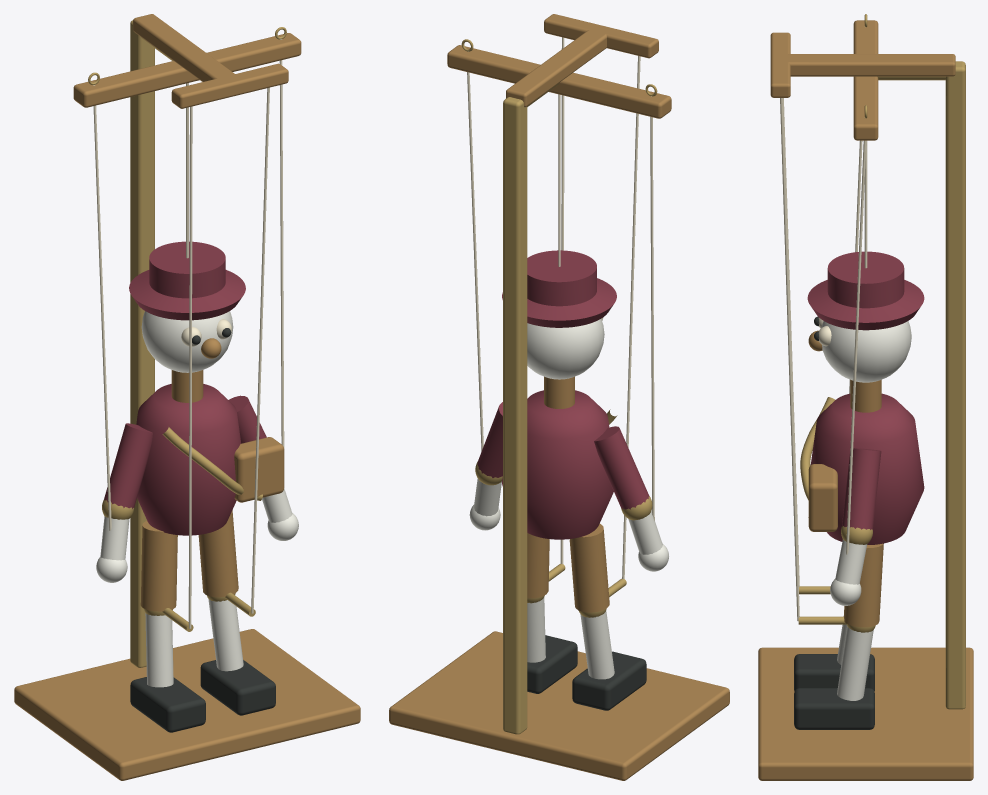
File: abandoned-puppet-theatre-and-prop-vault-articulated-co-13b5c0bd__31080.glb
3 renders of one model, left to right at view 1: azimuth 30°, elevation 25°; view 2: azimuth 150°, elevation 25°; view 3: azimuth 270°, elevation 25°, orthographic.
Parts seen in each view (by area): view 1: articulated-courier-marionette; view 2: articulated-courier-marionette; view 3: articulated-courier-marionette.
Part boxes in pixels (left/top/right/bottom): articulated-courier-marionette: left=14, top=14, right=360, bottom=780; articulated-courier-marionette: left=389, top=14, right=729, bottom=780; articulated-courier-marionette: left=758, top=14, right=973, bottom=780.
Bounding box in the file's own units: 0.62 × 1.63 × 0.4801.
